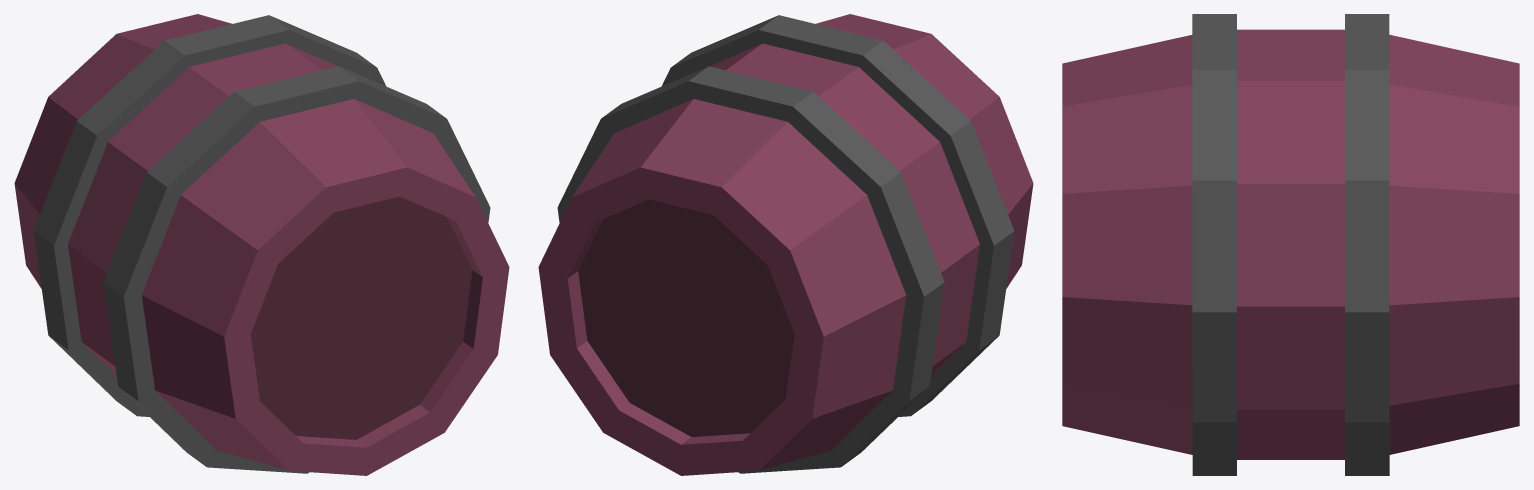
File: Barrel.fbx
The picture shows the model from 3 angles, left to right: view 1: azimuth 30°, elevation 25°; view 2: azimuth 150°, elevation 25°; view 3: azimuth 270°, elevation 25°; orthographic projection. The views are drawn at different scales.
Parts seen in each view (by area): view 1: Barrel.001; view 2: Barrel.001; view 3: Barrel.001.
Boxes of the visible parts, x1,y1,x2,y2 form: Barrel.001: (14,14,509,475); Barrel.001: (538,14,1033,475); Barrel.001: (1062,14,1519,475).
Bounding box in the file's own units: 1.41 × 1.4 × 1.4.
